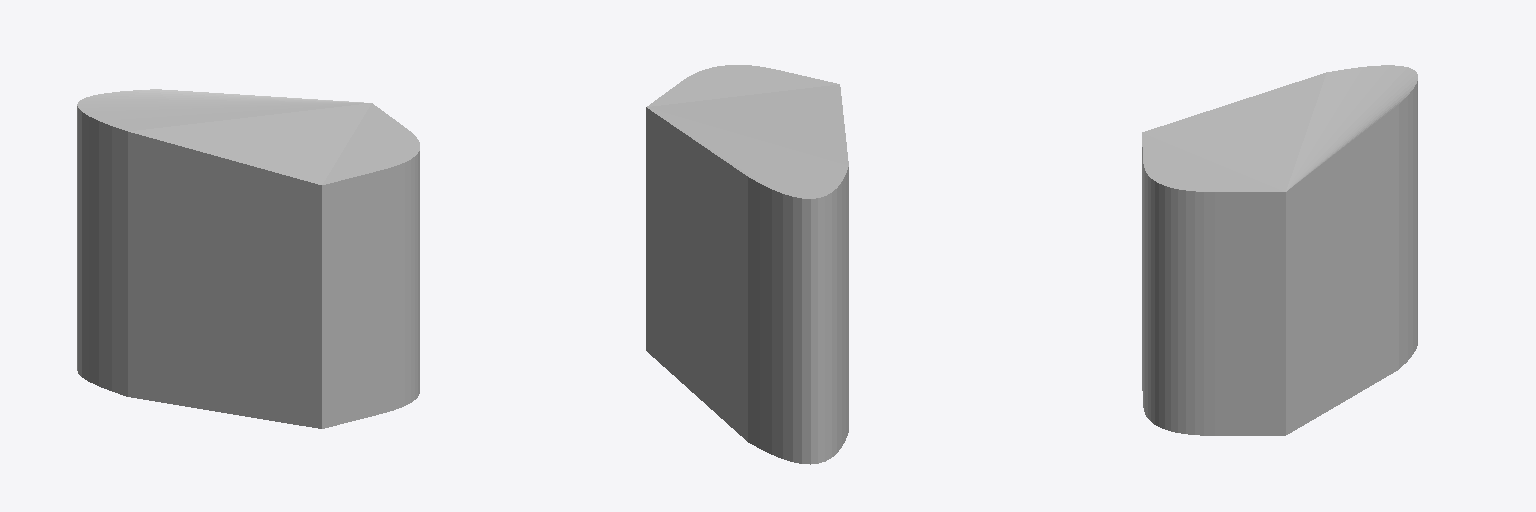
File: レバー右.obj
The picture shows the model from 3 angles: view 1: azimuth 30°, elevation 25°; view 2: azimuth 150°, elevation 25°; view 3: azimuth 270°, elevation 25°; orthographic projection.
Parts seen in each view (by area): view 1: Box007; view 2: Box007; view 3: Box007.
Boxes of the visible parts, <box> form: Box007: <box>77,89,419,428</box>; Box007: <box>646,65,848,464</box>; Box007: <box>1142,65,1417,435</box>.
Bounding box in the file's own units: 9.47 × 10.1 × 9.53.